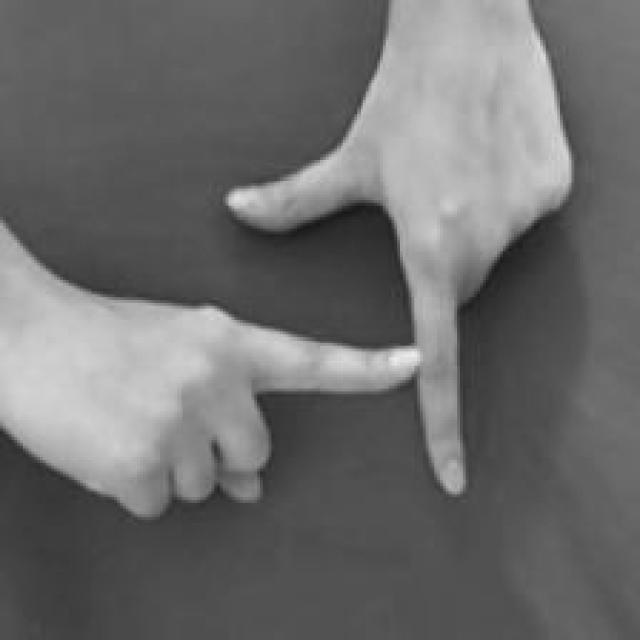F: (0, 0, 574, 523)
